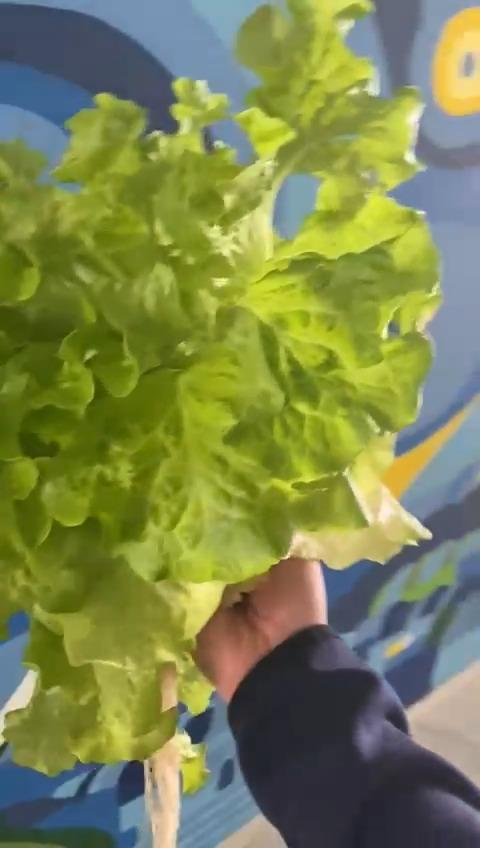Healthy: (0, 0, 437, 793)
